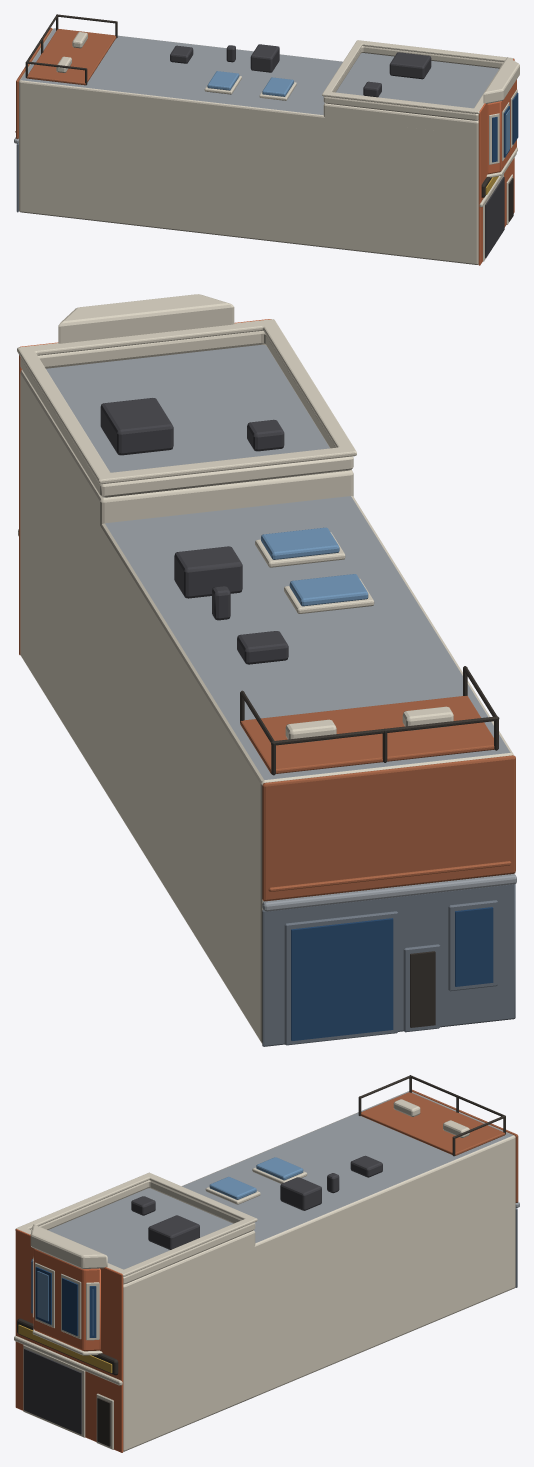
File: mid.glb
3 views of the same model, one above another, from view 1: azimuth 30°, elevation 25°; view 2: azimuth 150°, elevation 25°; view 3: azimuth 270°, elevation 25° (orthographic). The views are drawn at different scales.
Visible parts, largest first — view 1: grp_Toy_steel_Toy_stone, grp_Toy_stone, grp_Toy_roofd, grp_Toy_rust, grp_Toy_brick, grp_Toy_ink, grp_Toy_glassl, grp_Toy_glass; view 2: grp_Toy_steel_Toy_stone, grp_Toy_rust, grp_Toy_stone, grp_Toy_slate, grp_Toy_glass, grp_Toy_roofd, grp_Toy_ink, grp_Toy_glassl, varney_header; view 3: grp_Toy_steel_Toy_stone, grp_Toy_stone, grp_Toy_brick, grp_Toy_roofd, grp_Toy_rust, grp_Toy_ink, grp_Toy_glass, grp_Toy_glassl, sign_glow, grp_Toy_glass_Glow.
Part boxes in pixels (x1,y1,x2,y2): grp_Toy_steel_Toy_stone: [19, 28, 498, 264]; grp_Toy_stone: [56, 32, 519, 261]; grp_Toy_roofd: [170, 44, 504, 258]; grp_Toy_rust: [15, 27, 116, 139]; grp_Toy_brick: [478, 58, 516, 265]; grp_Toy_ink: [25, 14, 513, 221]; grp_Toy_glassl: [207, 71, 293, 96]; grp_Toy_glass: [492, 92, 518, 162]; grp_Toy_steel_Toy_stone: [20, 344, 513, 1043]; grp_Toy_rust: [240, 696, 515, 901]; grp_Toy_stone: [17, 294, 453, 743]; grp_Toy_slate: [262, 884, 515, 1046]; grp_Toy_glass: [291, 907, 493, 1040]; grp_Toy_roofd: [100, 398, 288, 664]; grp_Toy_ink: [240, 666, 499, 1027]; grp_Toy_glassl: [261, 527, 368, 606]; varney_header: [262, 874, 516, 911]; grp_Toy_steel_Toy_stone: [48, 1091, 515, 1451]; grp_Toy_stone: [14, 1099, 469, 1449]; grp_Toy_brick: [15, 1229, 123, 1452]; grp_Toy_roofd: [24, 1155, 382, 1434]; grp_Toy_rust: [361, 1089, 518, 1202]; grp_Toy_ink: [17, 1075, 505, 1446]; grp_Toy_glass: [31, 1259, 96, 1337]; grp_Toy_glassl: [209, 1157, 303, 1199]; sign_glow: [18, 1324, 112, 1372]; grp_Toy_glass_Glow: [37, 1271, 93, 1335].
Bounding box in the file's own units: 22.93 × 9.6 × 23.06.
